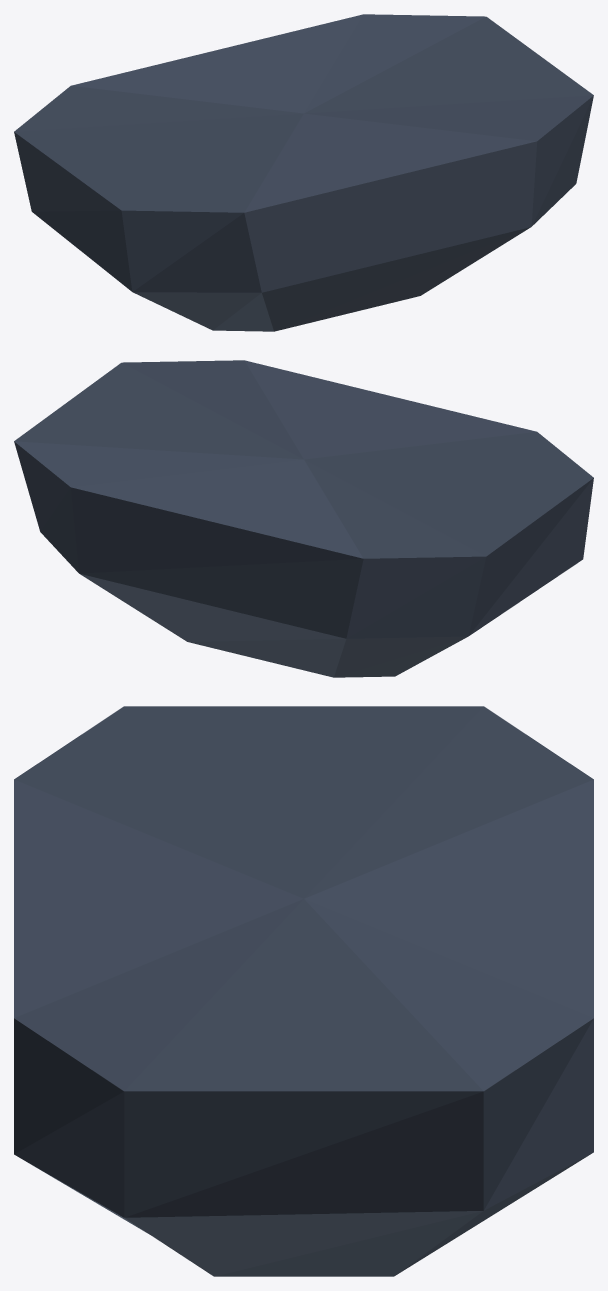
Rendered from wall_z1_rock_cap_bottom.glb.
3 renders of one model, top to bottom at view 1: azimuth 30°, elevation 25°; view 2: azimuth 150°, elevation 25°; view 3: azimuth 270°, elevation 25°, orthographic. The views are drawn at different scales.
Parts seen in each view (by area): view 1: wall_z1_rock_cap_bottom; view 2: wall_z1_rock_cap_bottom; view 3: wall_z1_rock_cap_bottom.
Boxes of the visible parts, bbox=[...] form: wall_z1_rock_cap_bottom: bbox=[14, 14, 593, 331]; wall_z1_rock_cap_bottom: bbox=[14, 360, 593, 677]; wall_z1_rock_cap_bottom: bbox=[14, 706, 593, 1276].
Size of the model in its own units: 4.4 by 1.5 by 2.8.
